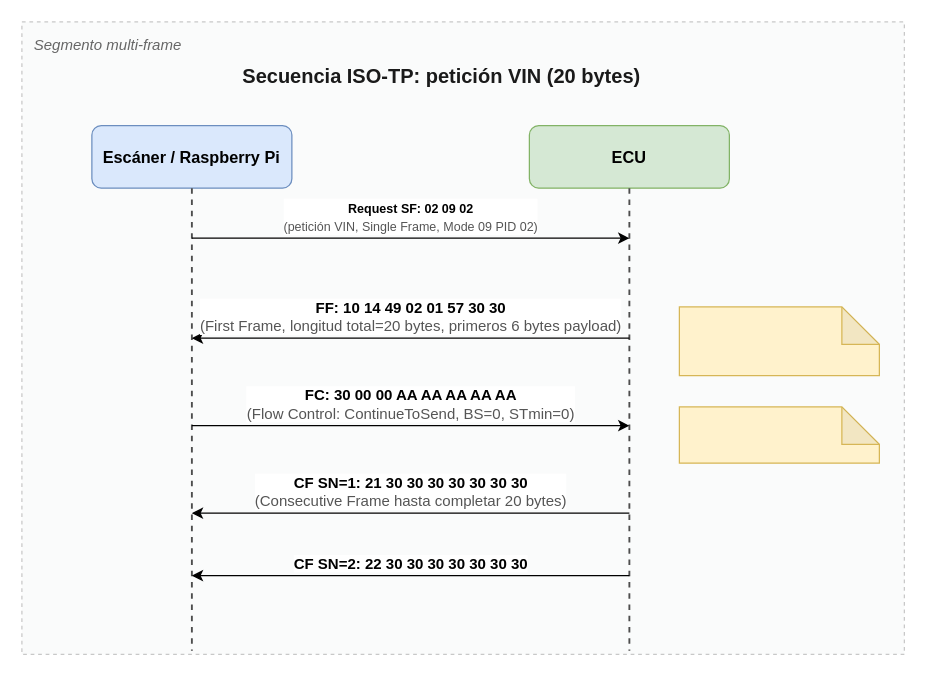
This 926x676 diagram has some shape labels left out. Here are the shapes that lost their labels. From the top down, the centre of each, then its label:
the point at 778,341: Nota: Payload total: 20 bytes (3 header + 17 VIN)
the point at 778,434: Nota: BS=0: sin límite de bloques
